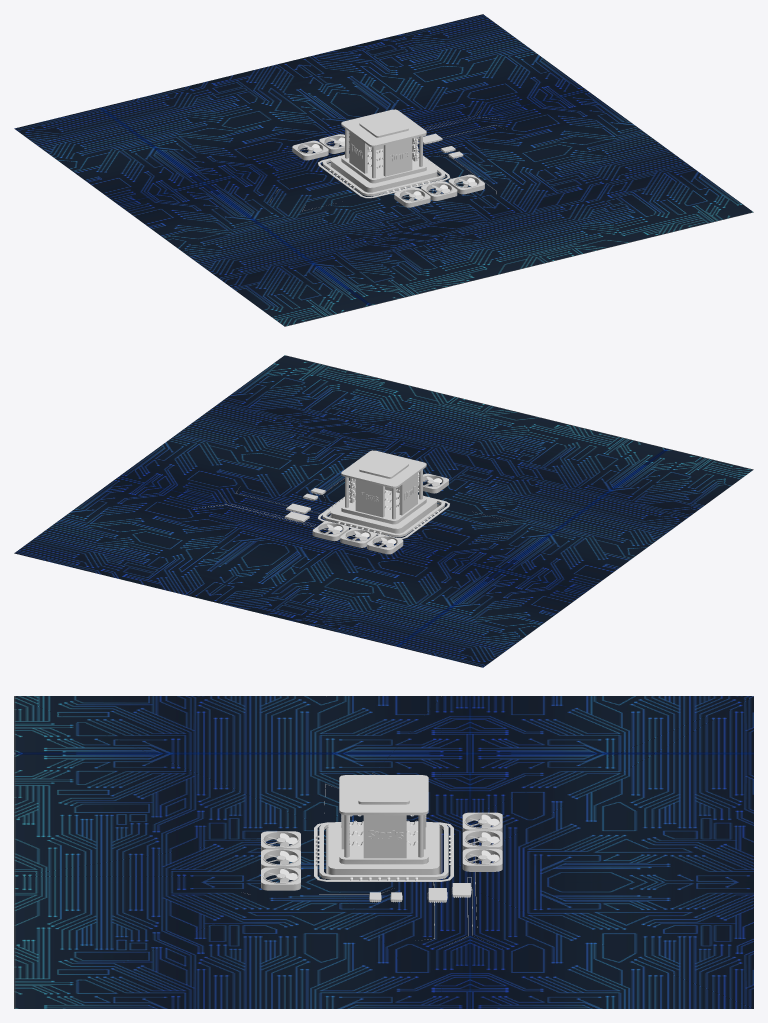
File: boardC7.glb
The picture shows the model from 3 angles, top to bottom: view 1: azimuth 30°, elevation 25°; view 2: azimuth 150°, elevation 25°; view 3: azimuth 270°, elevation 25°; orthographic projection. The views are drawn at different scales.
Parts seen in each view (by area): view 1: Plane-PBR, coqueFan, cpuTopStands, cpuBase1, behindHome, cpuBasetop, BorderPlane, topCPUlogo, behindEbook; view 2: Plane-PBR, coqueFan, cpuTopStands, cpuBase1, behindNews, cpuBasetop, BorderPlane, topCPUlogo, behindEbook; view 3: Plane-PBR, coqueFan, cpuTopStands, cpuBase1, cpuBasetop, behindStocks, BorderPlane, topCPUlogo, puce, BorderPlane.1.
Part boxes in pixels (left/top/right/bottom): Plane-PBR: left=14, top=14, right=753, bottom=326; coqueFan: left=292, top=134, right=484, bottom=207; cpuTopStands: left=341, top=109, right=426, bottom=147; cpuBase1: left=330, top=154, right=437, bottom=192; behindHome: left=383, top=138, right=412, bottom=176; cpuBasetop: left=341, top=146, right=426, bottom=183; BorderPlane: left=322, top=153, right=445, bottom=196; topCPUlogo: left=359, top=115, right=408, bottom=137; behindEbook: left=349, top=132, right=367, bottom=173; Plane-PBR: left=14, top=355, right=753, bottom=667; coqueFan: left=312, top=472, right=448, bottom=554; cpuTopStands: left=341, top=450, right=426, bottom=488; cpuBase1: left=330, top=495, right=437, bottom=533; behindNews: left=355, top=479, right=384, bottom=517; cpuBasetop: left=341, top=487, right=426, bottom=524; BorderPlane: left=322, top=494, right=445, bottom=537; topCPUlogo: left=359, top=456, right=408, bottom=478; behindEbook: left=399, top=473, right=417, bottom=515; Plane-PBR: left=14, top=696, right=753, bottom=1008; coqueFan: left=261, top=812, right=502, bottom=890; cpuTopStands: left=339, top=775, right=428, bottom=815; cpuBase1: left=328, top=822, right=439, bottom=874; cpuBasetop: left=339, top=822, right=428, bottom=864; behindStocks: left=363, top=815, right=406, bottom=858; BorderPlane: left=319, top=822, right=448, bottom=879; topCPUlogo: left=358, top=780, right=409, bottom=804; puce: left=369, top=883, right=470, bottom=902; BorderPlane.1: left=314, top=822, right=453, bottom=881.
Size of the model in its own units: 40 by 7.77 by 40.
Materials: 2 (1 with a texture image).
